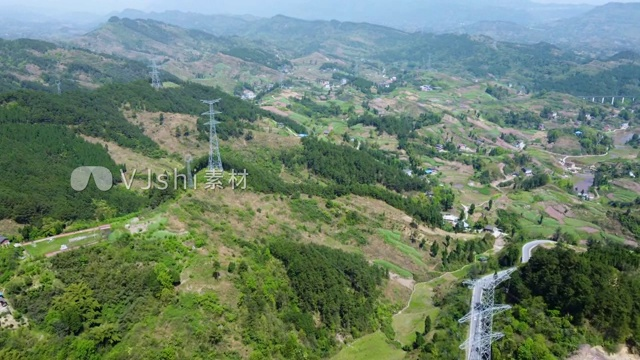tower_body: (456, 266, 523, 360), (195, 94, 236, 175)
tower_foot: (204, 154, 226, 171)
tower_head: (459, 272, 517, 292), (200, 98, 222, 107)
